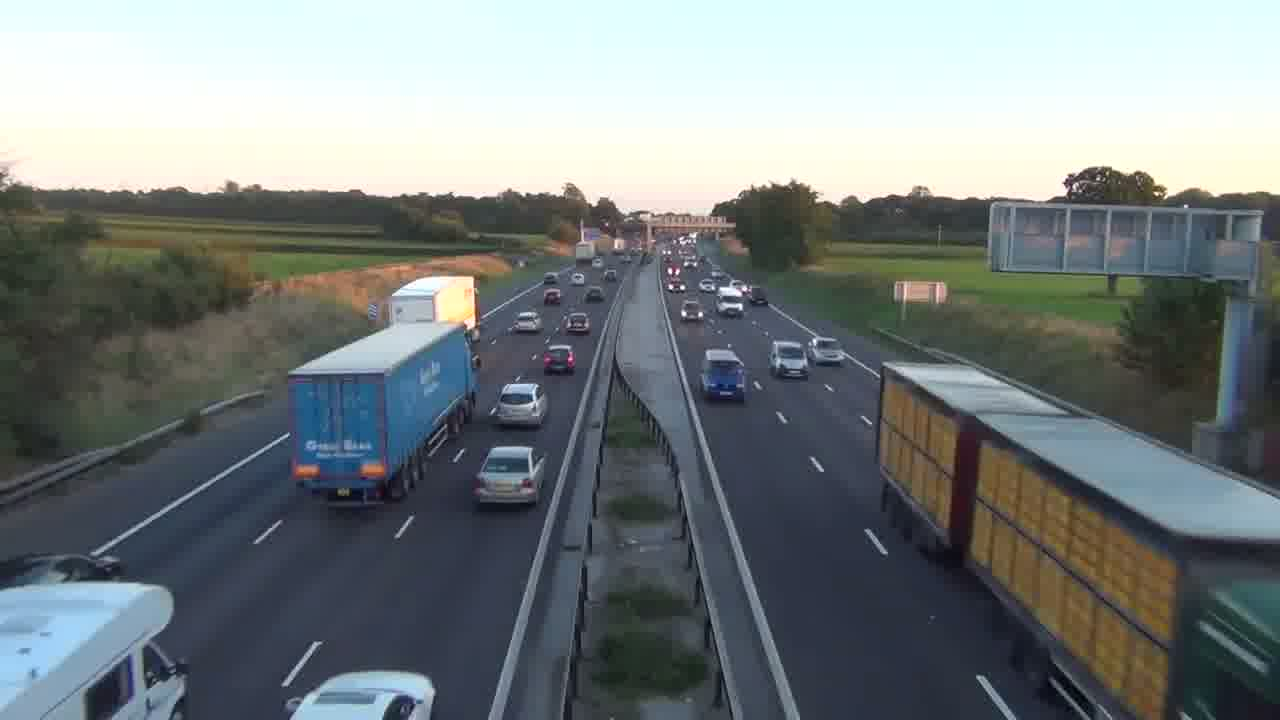bus: (1, 578, 190, 718)
car: (288, 669, 436, 719), (472, 444, 548, 510), (490, 381, 549, 429), (768, 340, 810, 380), (808, 336, 845, 366), (543, 345, 576, 374), (716, 288, 745, 318), (562, 311, 592, 335), (583, 285, 604, 302)
truck: (288, 320, 478, 505), (1, 578, 190, 718), (389, 274, 477, 334)
